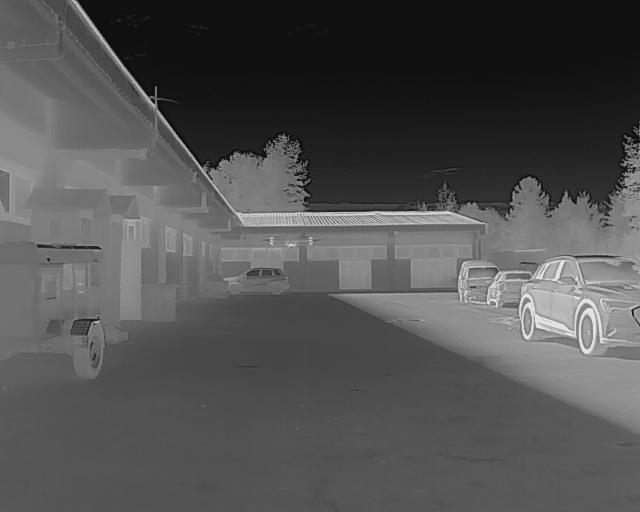drone: (260, 226, 323, 257)
